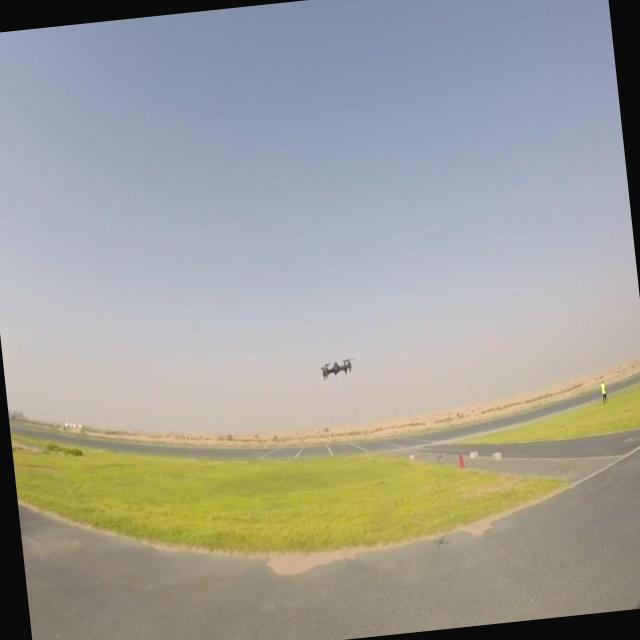drone: (318, 355, 359, 385)
